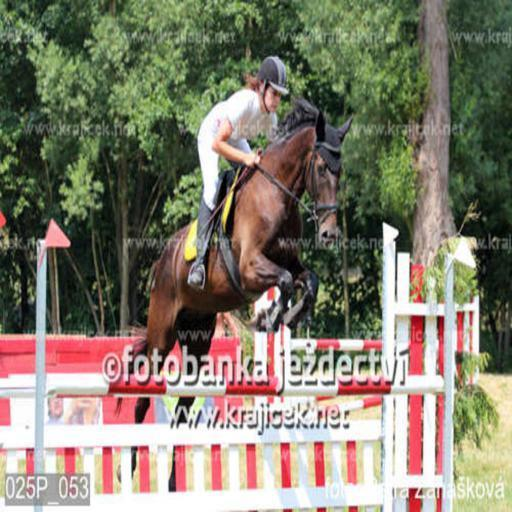horse: (114, 96, 356, 494)
